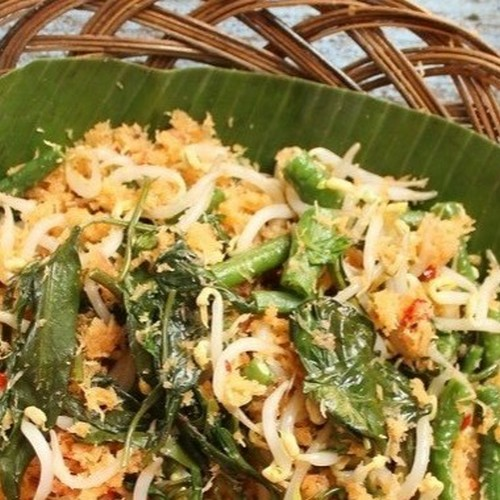jukut urap: (10, 125, 481, 490)
